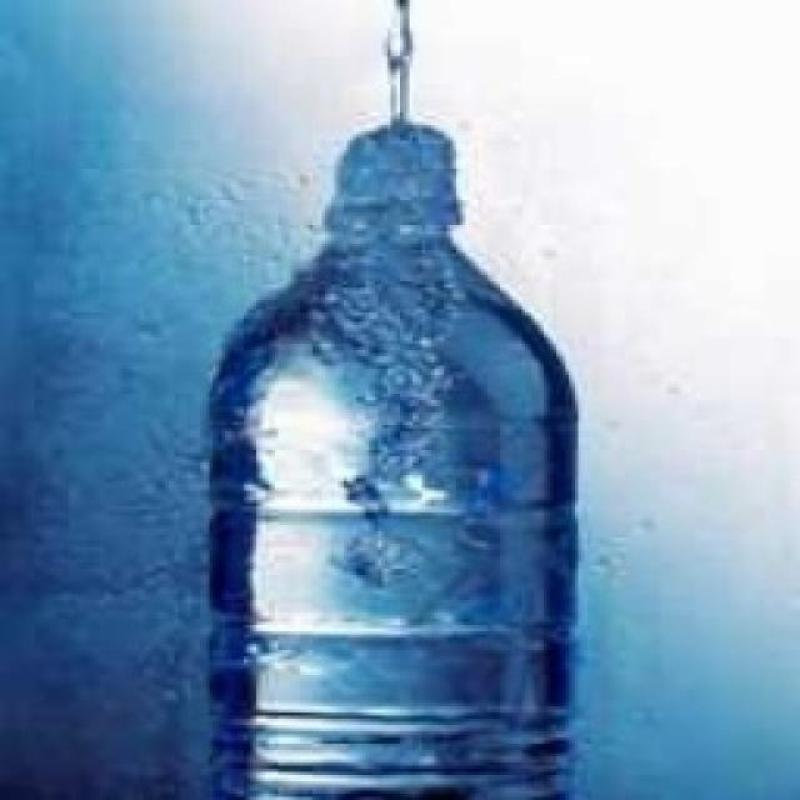botella: (196, 125, 584, 800)
